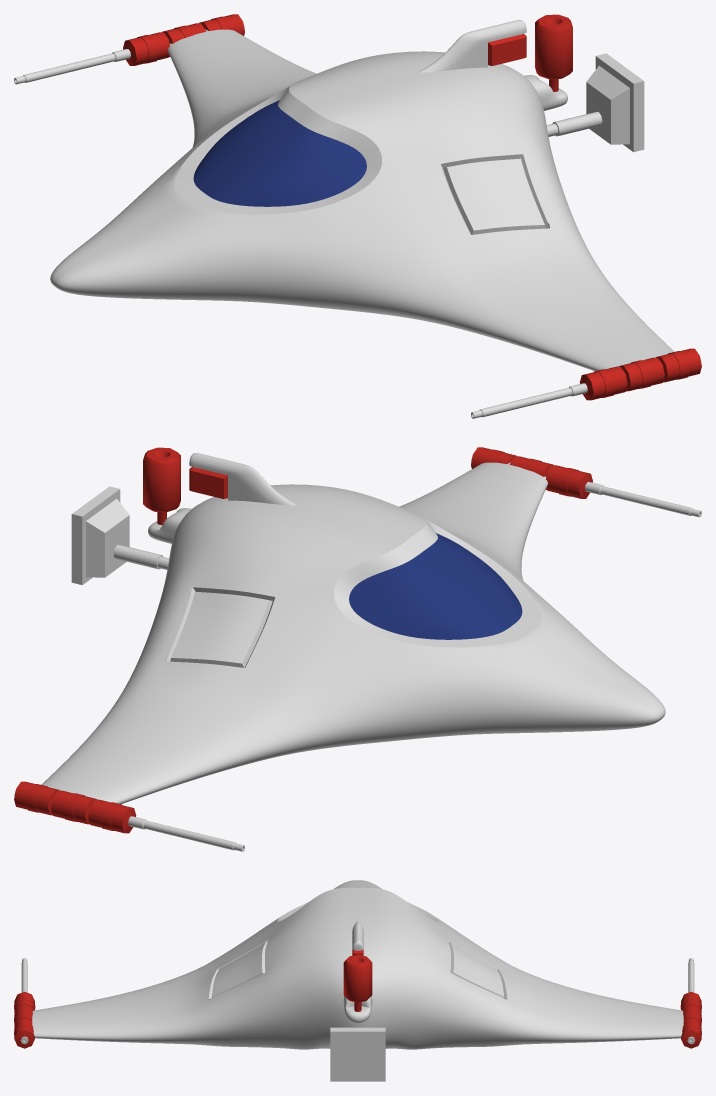
The model's file is spaceship.glb.
3 renders of one model, top to bottom at view 1: azimuth 30°, elevation 25°; view 2: azimuth 150°, elevation 25°; view 3: azimuth 270°, elevation 25°, orthographic. The views are drawn at different scales.
Visible parts, largest first — view 1: Cube, Cube.002, Plane (×2), Cube.003, Plane.003, Plane.001 (×2), Plane.002; view 2: Cube, Cube.002, Plane (×2), Cube.003, Plane.003, Plane.001 (×2), Plane.002; view 3: Cube, Cube.003, Plane (×2), Plane.003.
Part boxes in pixels (<box>): Cube: <box>50,20,674,371</box>; Cube.002: <box>193,100,366,206</box>; Plane (×2): <box>123,14,701,400</box>; Cube.003: <box>586,53,644,152</box>; Plane.003: <box>535,14,572,91</box>; Plane.001 (×2): <box>14,24,701,418</box>; Plane.002: <box>546,111,602,136</box>; Cube: <box>41,453,665,804</box>; Cube.002: <box>349,533,522,639</box>; Plane (×2): <box>14,447,592,833</box>; Cube.003: <box>71,486,129,585</box>; Plane.003: <box>143,447,180,524</box>; Plane.001 (×2): <box>14,457,701,851</box>; Plane.002: <box>113,544,169,569</box>; Cube: <box>32,880,683,1049</box>; Cube.003: <box>330,1027,385,1081</box>; Plane (×2): <box>14,991,701,1048</box>; Plane.003: <box>343,955,372,1011</box>.
Bounding box in the file's own units: 4.55 × 1.38 × 6.5.
